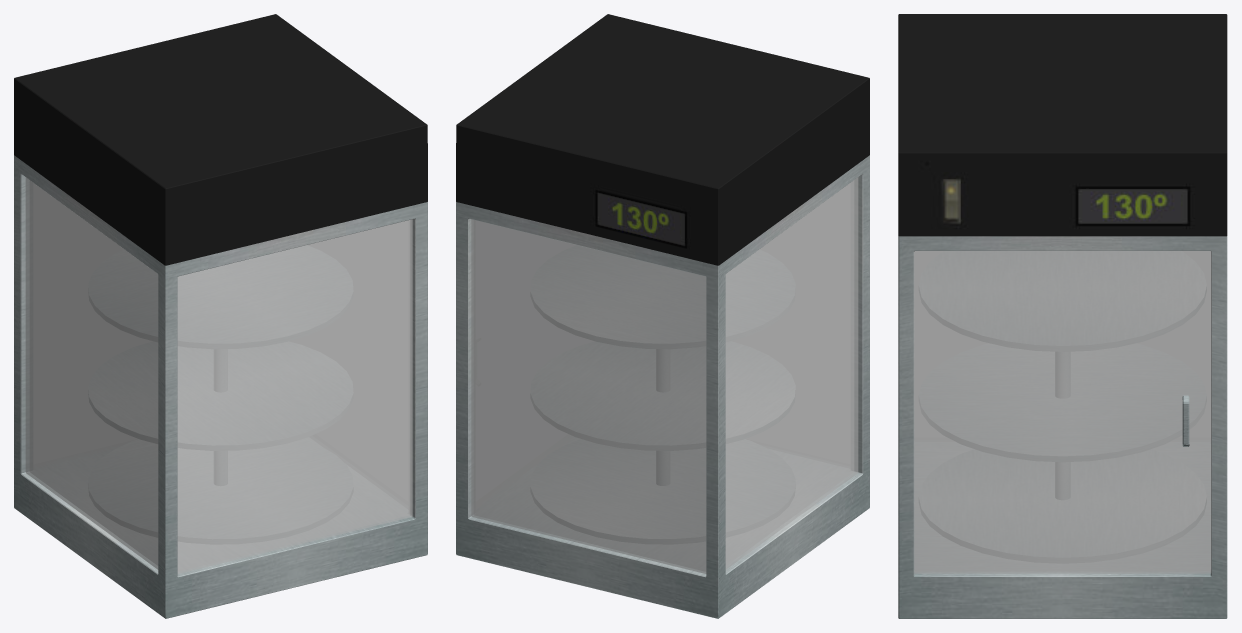
The model's file is Hotholder.gltf.
The picture shows the model from 3 angles, left to right: view 1: azimuth 30°, elevation 25°; view 2: azimuth 150°, elevation 25°; view 3: azimuth 270°, elevation 25°; orthographic projection. The views are drawn at different scales.
Parts seen in each view (by area): view 1: Hot_hold, Hot_hold_tray; view 2: Hot_hold, Hot_hold_tray, hothold_display; view 3: Hot_hold, Hot_hold_door, Hot_hold_tray, hothold_display.
Part boxes in pixels (<box>): Hot_hold: <box>14,14,427,618</box>; Hot_hold_tray: <box>89,246,352,543</box>; Hot_hold: <box>456,14,869,618</box>; Hot_hold_tray: <box>531,246,794,543</box>; hothold_display: <box>601,196,679,242</box>; Hot_hold: <box>898,14,1227,618</box>; Hot_hold_door: <box>914,251,1211,573</box>; Hot_hold_tray: <box>919,251,1206,562</box>; hothold_display: <box>1082,191,1180,221</box>.
Bounding box in the file's own units: 0.8544 × 1.33 × 0.8518.
Materials: 4 (3 with a texture image).
